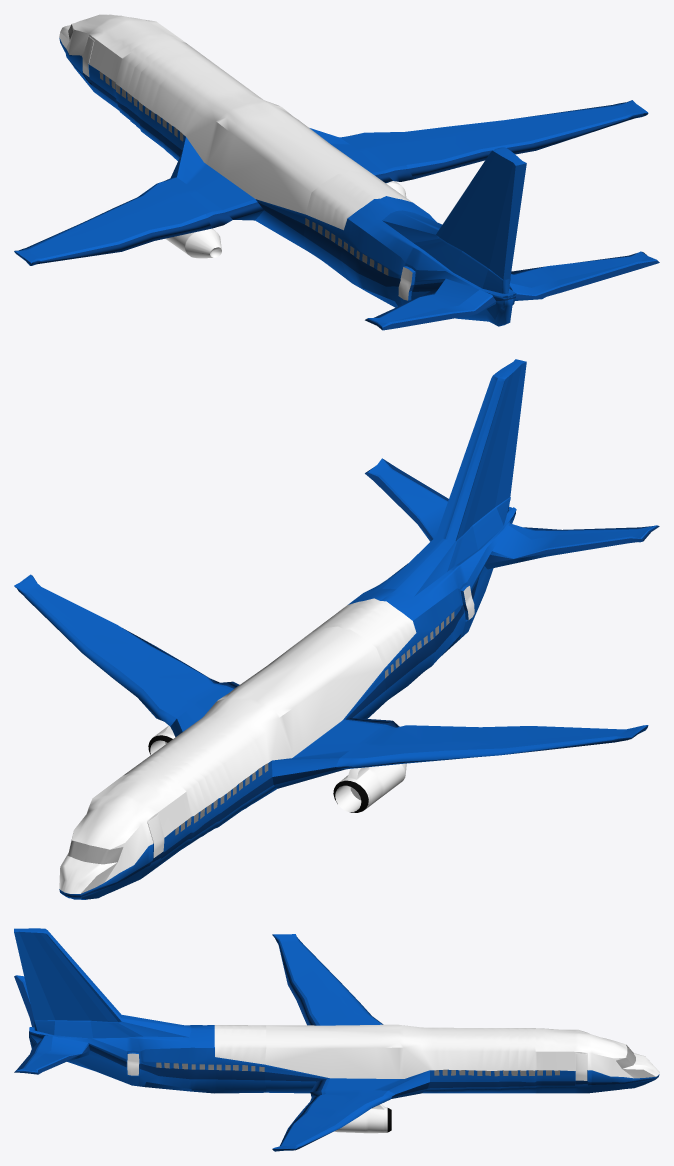
File: avion23.glb
3 renders of one model, top to bottom at view 1: azimuth 30°, elevation 25°; view 2: azimuth 150°, elevation 25°; view 3: azimuth 270°, elevation 25°, orthographic. The views are drawn at different scales.
Parts seen in each view (by area): view 1: avion; view 2: avion; view 3: avion.
Boxes of the visible parts, <box> form: avion: <box>14,14,659,330</box>; avion: <box>14,359,659,899</box>; avion: <box>14,928,659,1151</box>.
Bounding box in the file's own units: 509 × 188 × 648.
